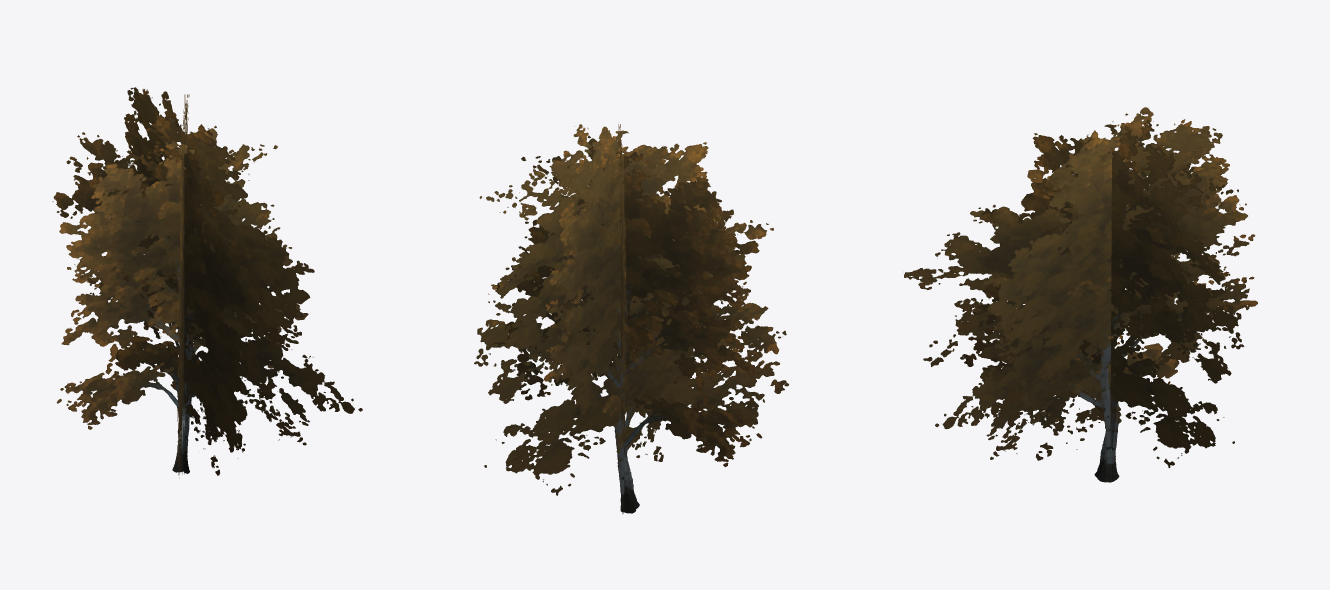
File: Sce_bf_tree04.fbx
The picture shows the model from 3 angles, left to right: view 1: azimuth 30°, elevation 25°; view 2: azimuth 150°, elevation 25°; view 3: azimuth 270°, elevation 25°; orthographic projection. The views are drawn at different scales.
Visible parts, largest first — view 1: tree04; view 2: tree04; view 3: tree04.
Boxes of the visible parts, left/top/right/bottom form: tree04: left=52, top=87, right=362, bottom=478; tree04: left=474, top=124, right=788, bottom=513; tree04: left=904, top=107, right=1257, bottom=482.
Bounding box in the file's own units: 25.98 × 29.26 × 31.87.
